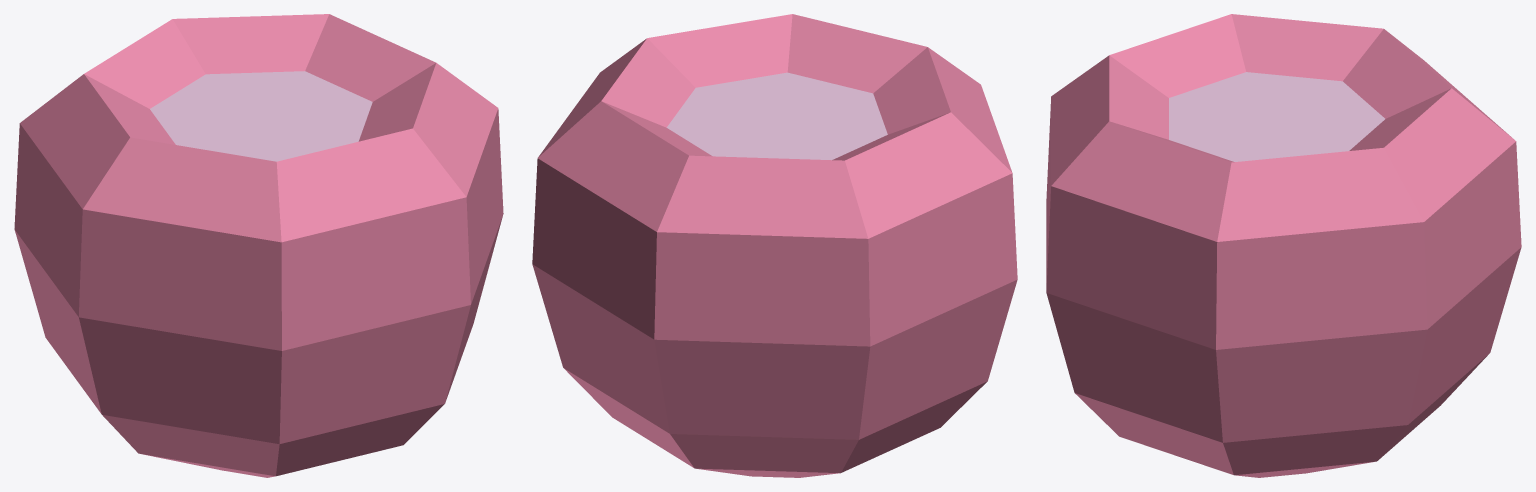
File: raspberry.fbx
3 views of the same model, side by side, from view 1: azimuth 30°, elevation 25°; view 2: azimuth 150°, elevation 25°; view 3: azimuth 270°, elevation 25° (orthographic).
Visible parts, largest first — view 1: strawberry; view 2: strawberry; view 3: strawberry.
Part boxes in pixels (bbox=[...]): strawberry: bbox=[14, 14, 503, 477]; strawberry: bbox=[532, 14, 1017, 477]; strawberry: bbox=[1046, 14, 1521, 477].
Bounding box in the file's own units: 41.77 × 34.69 × 40.72.
